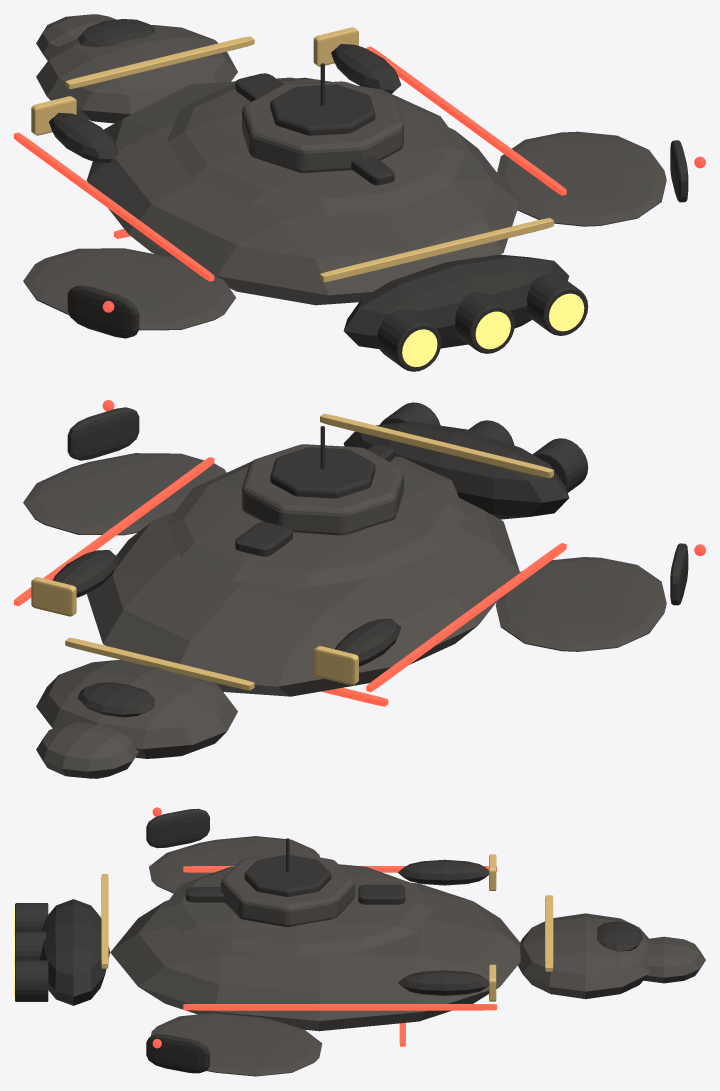
Rendered from ship_hull.glb.
3 views of the same model, one above another, from view 1: azimuth 30°, elevation 25°; view 2: azimuth 150°, elevation 25°; view 3: azimuth 270°, elevation 25° (orthographic). The views are drawn at different scales.
Parts seen in each view (by area): view 1: hullMain, hullTopDeck, wing1, wing-1, nose, engBlock, dome, domeCap, wingFin-1, engTrim, flank-1, intake-1 (+16 smaller); view 2: hullMain, hullTopDeck, wing-1, nose, wing1, engBlock, dome, noseTip, domeCap, wingFin1, engTrim, flank-1 (+12 smaller); view 3: hullMain, hullTopDeck, nose, wing1, engBlock, dome, wing-1, domeCap, noseTip, flank1, wingFin-1, wingFin1 (+11 smaller).
Part boxes in pixels (left/top/right/bottom): hullMain: left=86, top=77, right=519, bottom=305; hullTopDeck: left=166, top=77, right=465, bottom=215; wing1: left=497, top=131, right=666, bottom=226; wing-1: left=23, top=248, right=235, bottom=330; nose: left=36, top=25, right=237, bottom=123; engBlock: left=343, top=254, right=569, bottom=349; dome: left=242, top=81, right=403, bottom=172; domeCap: left=270, top=84, right=375, bottom=135; wingFin-1: left=67, top=285, right=139, bottom=338; engTrim: left=320, top=218, right=553, bottom=282; flank-1: left=14, top=132, right=214, bottom=281; intake-1: left=49, top=112, right=118, bottom=162; hullMain: left=87, top=498, right=519, bottom=696; hullTopDeck: left=166, top=456, right=465, bottom=587; wing-1: left=495, top=557, right=666, bottom=651; nose: left=36, top=659, right=237, bottom=758; wing1: left=23, top=453, right=226, bottom=535; engBlock: left=343, top=421, right=569, bottom=519; dome: left=242, top=444, right=403, bottom=535; noseTip: left=36, top=721, right=138, bottom=778; domeCap: left=270, top=447, right=375, bottom=498; wingFin1: left=67, top=407, right=139, bottom=460; engTrim: left=320, top=413, right=553, bottom=478; flank-1: left=366, top=543, right=566, bottom=691; hullMain: left=110, top=882, right=520, bottom=1031; hullTopDeck: left=162, top=864, right=433, bottom=957; nose: left=518, top=913, right=650, bottom=999; wing1: left=151, top=1013, right=322, bottom=1076; engBlock: left=39, top=899, right=109, bottom=1005; dome: left=221, top=852, right=354, bottom=927; wing-1: left=149, top=836, right=319, bottom=893; domeCap: left=244, top=855, right=331, bottom=896; noseTip: left=644, top=936, right=705, bottom=983; flank1: left=183, top=1004, right=496, bottom=1010; wingFin-1: left=146, top=808, right=209, bottom=848; wingFin1: left=146, top=1034, right=209, bottom=1073.
Size of the model in its own units: 54.25 by 16.4 by 66.2.
